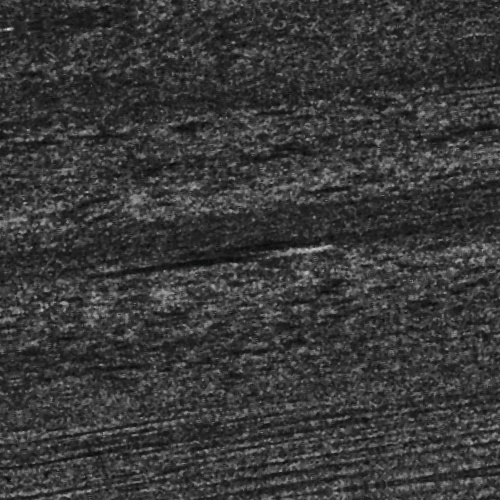object: (259, 248, 342, 257)
shadow: (144, 248, 301, 257)
